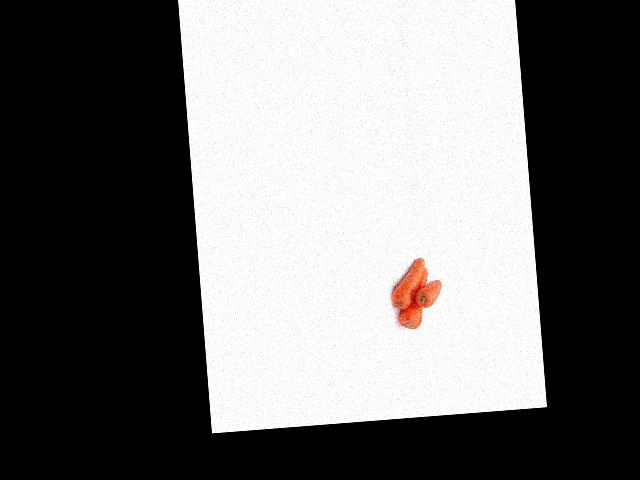carrot: (393, 260, 433, 331)
